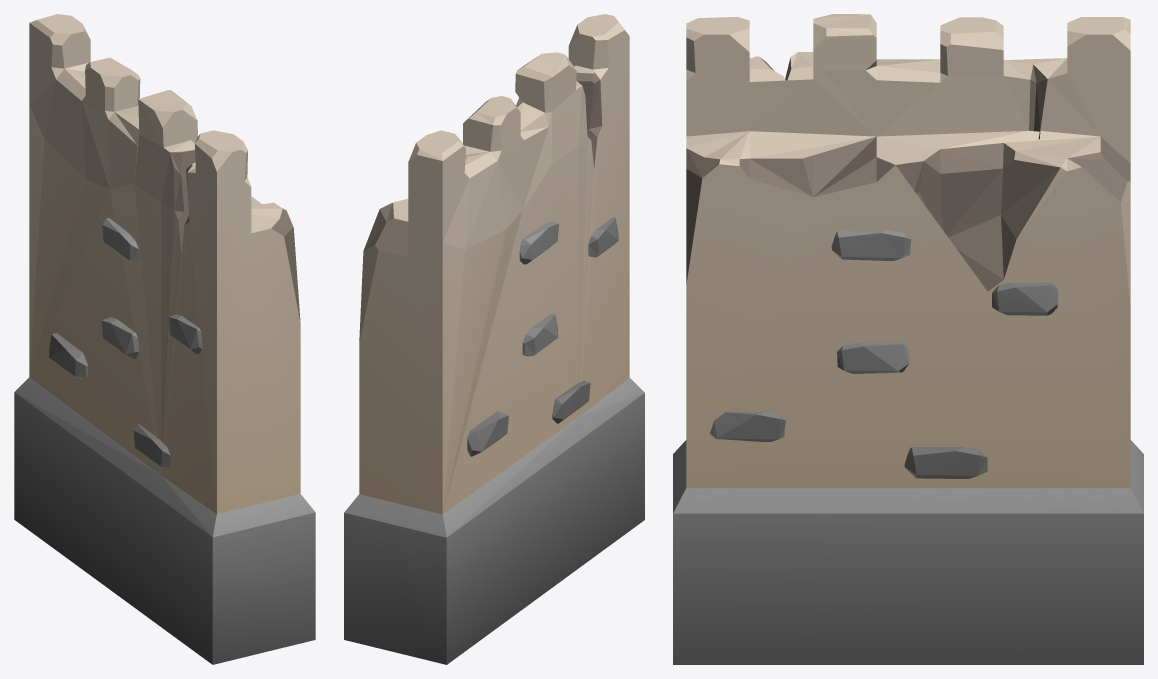
Rendered from damagedfortwall2.glb.
The picture shows the model from 3 angles, left to right: view 1: azimuth 30°, elevation 25°; view 2: azimuth 150°, elevation 25°; view 3: azimuth 270°, elevation 25°; orthographic projection. The views are drawn at different scales.
Visible parts, largest first — view 1: DamagedFortWall2_mesh1; view 2: DamagedFortWall2_mesh1; view 3: DamagedFortWall2_mesh1.
Boxes of the visible parts, <box> form: DamagedFortWall2_mesh1: <box>14,14,315,664</box>; DamagedFortWall2_mesh1: <box>344,14,644,664</box>; DamagedFortWall2_mesh1: <box>673,14,1143,664</box>.
Size of the model in its own units: 1.66 by 7.75 by 5.52.
Materials: 1 (1 with a texture image).
